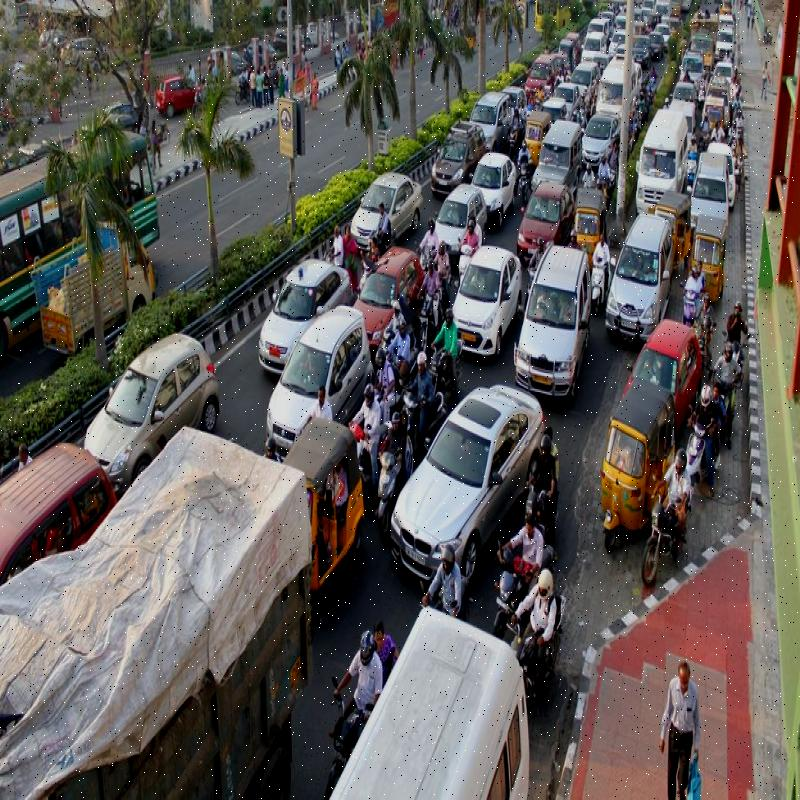auto: (600, 390, 660, 556), (688, 209, 732, 303)
car: (388, 401, 547, 565), (74, 313, 218, 482), (263, 312, 373, 423), (531, 232, 586, 404), (612, 206, 664, 340), (457, 257, 517, 366), (273, 252, 330, 340), (638, 103, 682, 206), (356, 173, 417, 243), (466, 127, 512, 218), (525, 167, 562, 243), (586, 105, 618, 182)
